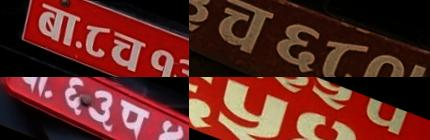0: (353, 39, 411, 77)
1: (138, 41, 179, 77)
2: (347, 127, 430, 140)
3: (83, 85, 119, 127), (189, 0, 221, 44), (261, 77, 313, 99), (166, 51, 189, 77)
4: (275, 98, 365, 140), (153, 115, 186, 140)
5: (205, 77, 295, 140), (303, 77, 358, 115)
6: (262, 6, 330, 77), (189, 77, 229, 134), (58, 77, 90, 114)
7: (391, 53, 430, 77)
8: (309, 23, 374, 77), (76, 17, 116, 61)
ba: (27, 0, 84, 50), (11, 77, 59, 101), (189, 77, 269, 82)
cha: (202, 0, 280, 67), (102, 26, 150, 75)
pa: (354, 93, 415, 140), (108, 95, 151, 140)
